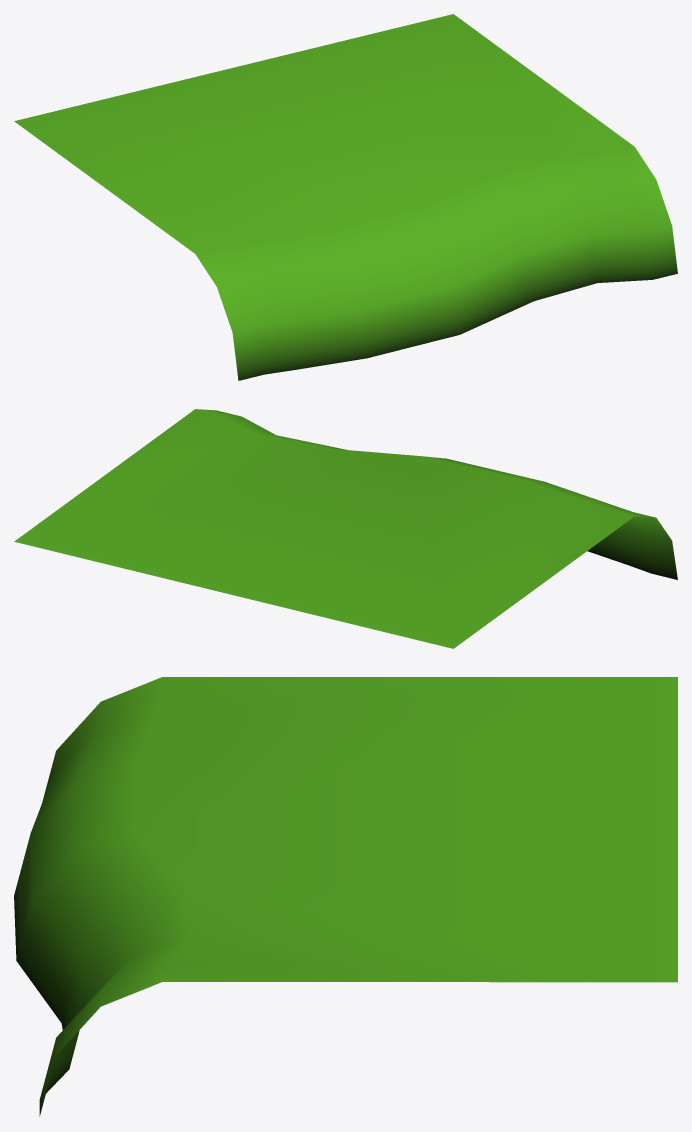
Rendered from Surface_PlatformShirt01.fbx.
The picture shows the model from 3 angles, top to bottom: view 1: azimuth 30°, elevation 25°; view 2: azimuth 150°, elevation 25°; view 3: azimuth 270°, elevation 25°; orthographic projection. The views are drawn at different scales.
Visible parts, largest first — view 1: Surface_PlatformShirt01; view 2: Surface_PlatformShirt01; view 3: Surface_PlatformShirt01.
Boxes of the visible parts, x1,y1,x2,y2 form: Surface_PlatformShirt01: [14, 14, 677, 380]; Surface_PlatformShirt01: [14, 409, 677, 648]; Surface_PlatformShirt01: [14, 677, 677, 1116].
Size of the model in its own units: 2000 by 415 by 1840.
